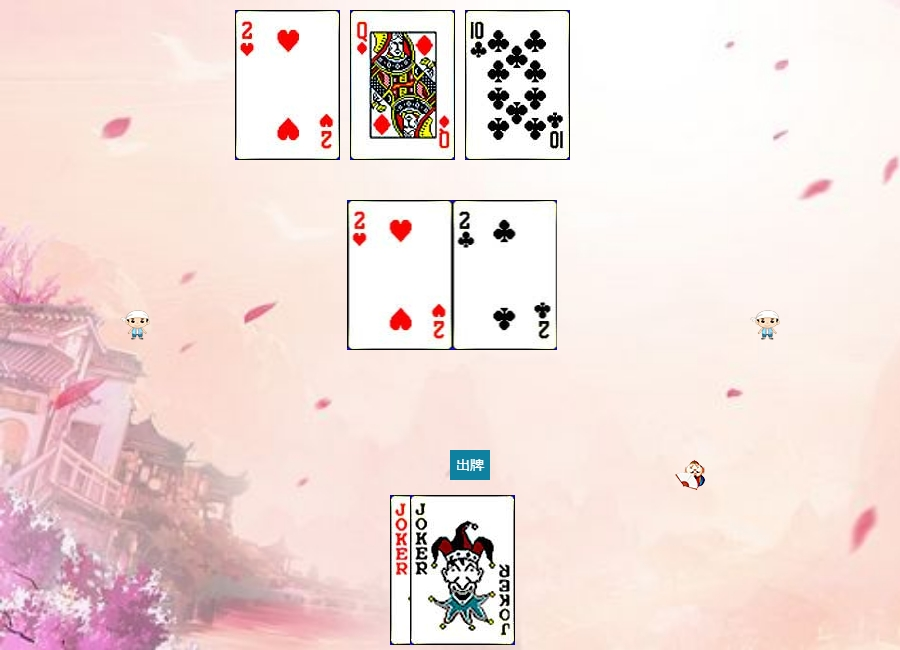10~2: (465, 10, 570, 160)
12~1: (350, 10, 455, 160)
15~2: (453, 200, 558, 350)
15~3: (235, 10, 340, 160), (348, 200, 453, 350)
17~3: (410, 495, 515, 645)
18~4: (390, 495, 495, 645)
